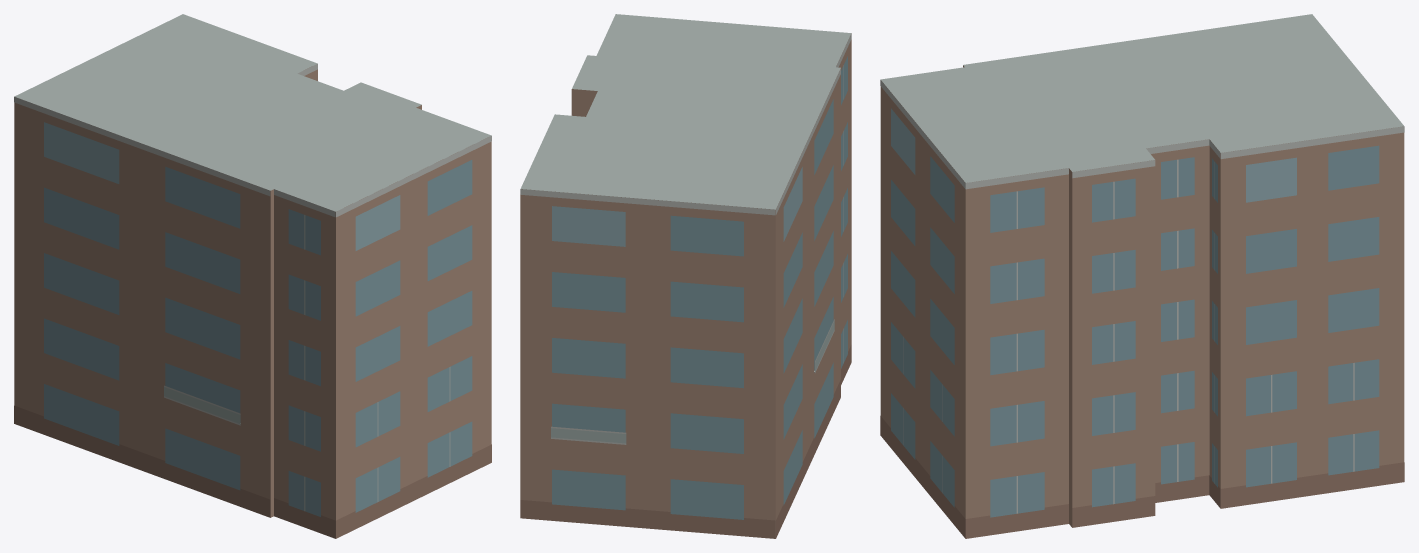
The model's file is survey-upis-32616288.glb.
3 renders of one model, left to right at view 1: azimuth 30°, elevation 25°; view 2: azimuth 150°, elevation 25°; view 3: azimuth 270°, elevation 25°, orthographic. The views are drawn at different scales.
Parts seen in each view (by area): view 1: survey-upis-32616288.tmp; view 2: survey-upis-32616288.tmp; view 3: survey-upis-32616288.tmp.
Part boxes in pixels (left/top/right/bottom): survey-upis-32616288.tmp: left=14, top=14, right=491, bottom=538; survey-upis-32616288.tmp: left=520, top=14, right=851, bottom=538; survey-upis-32616288.tmp: left=880, top=14, right=1404, bottom=538.
Bounding box in the file's own units: 13.96 × 13.7 × 18.29.
